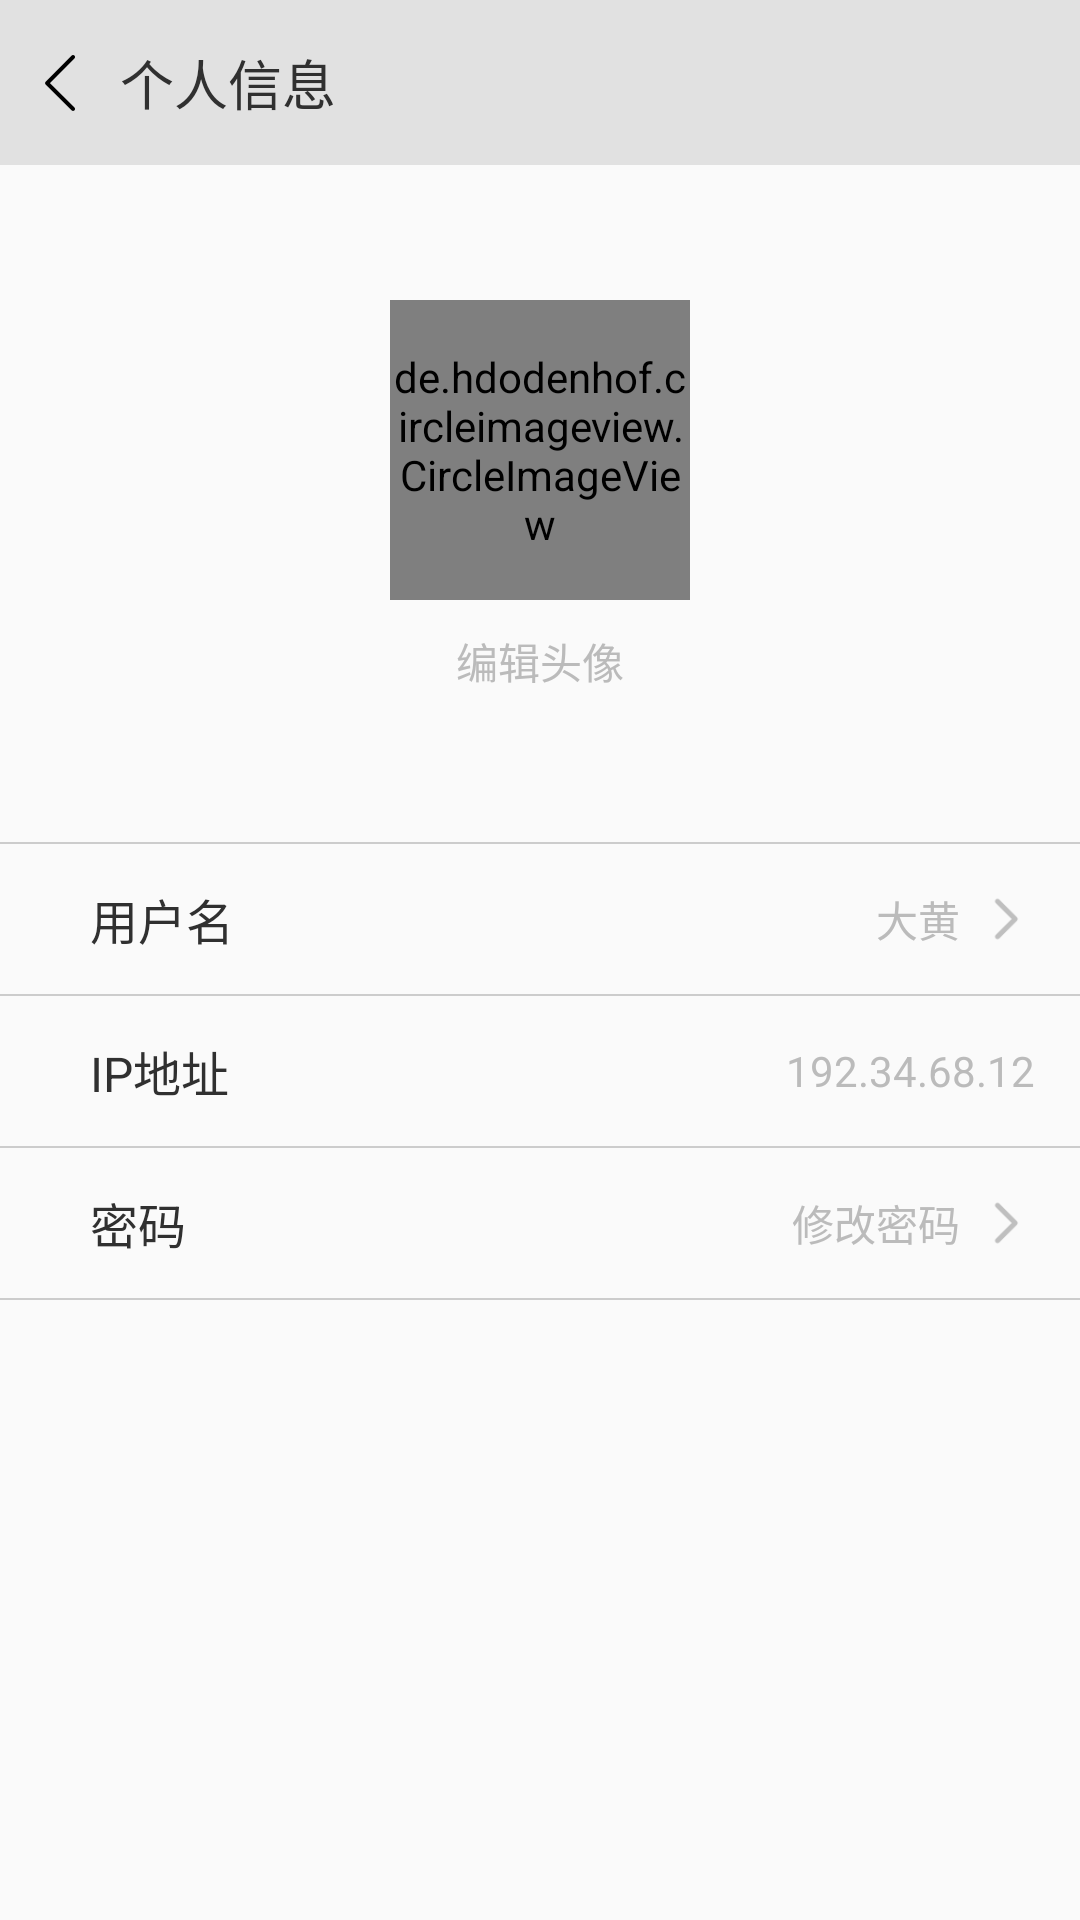

Point at icon controls on the screen. Image size 1080px×1920px, points as (x,y).
back: (60,83)
enter person item: (1006,919), (1006,1223)
